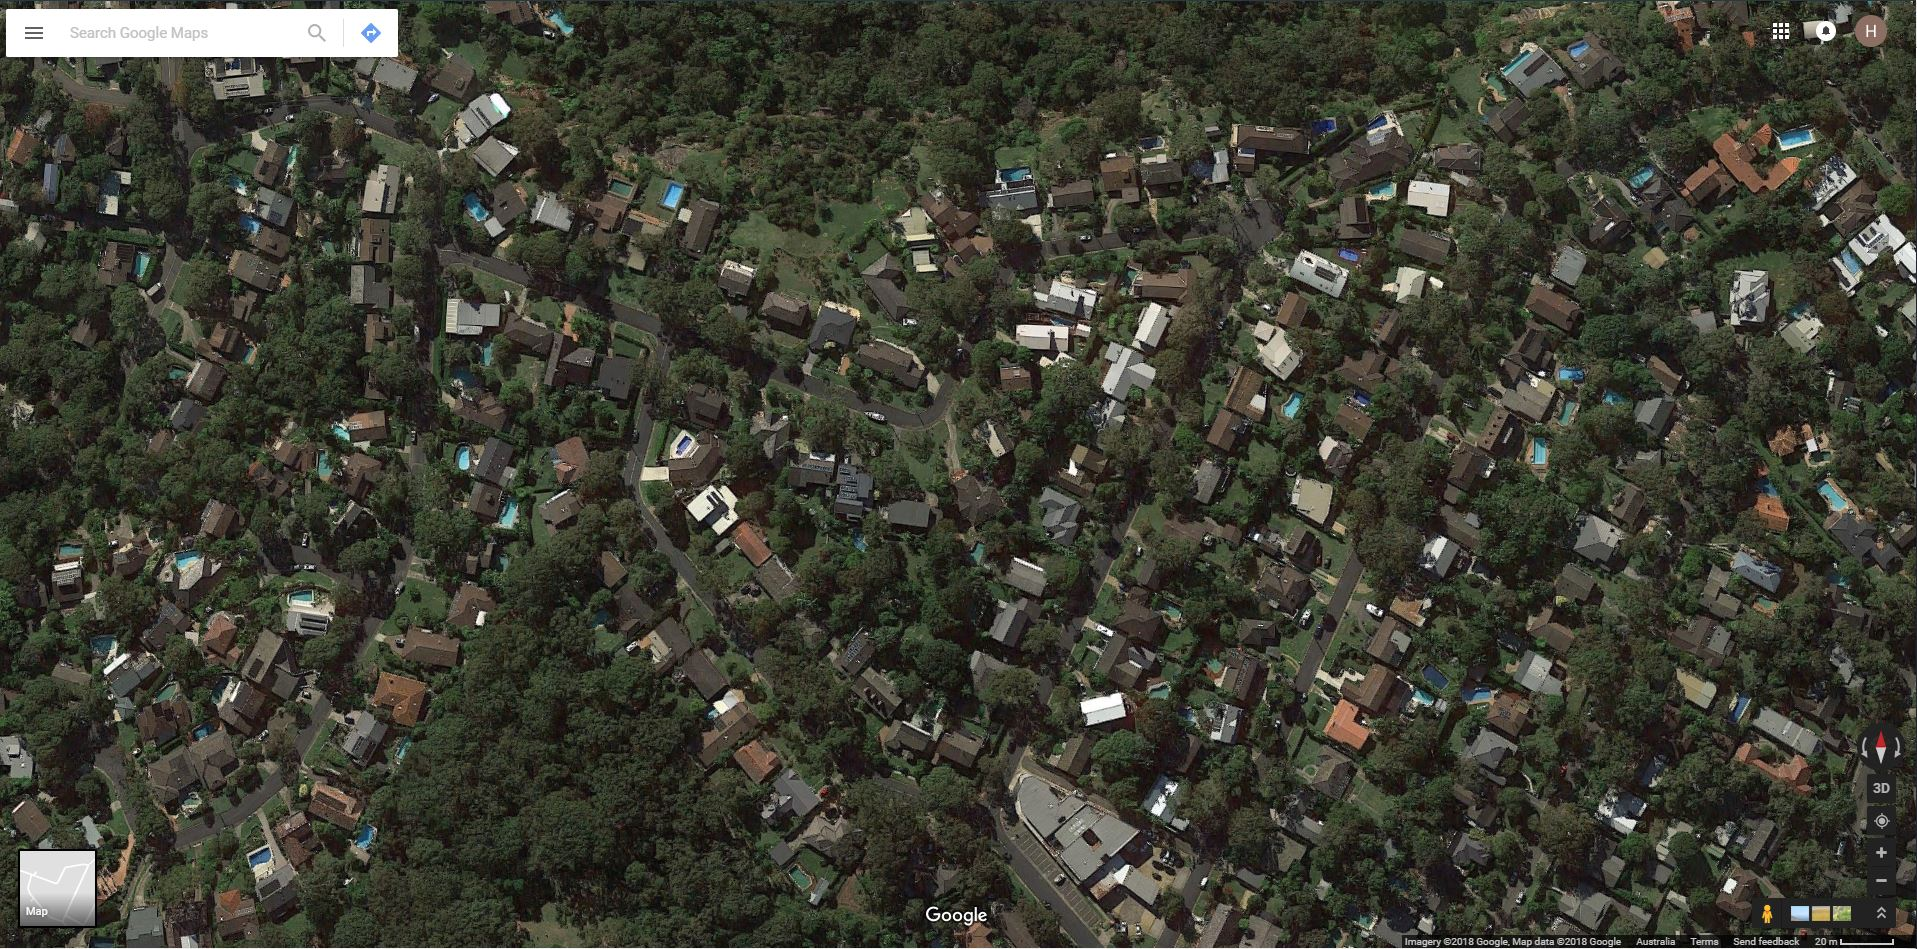pool: (1814, 482, 1853, 512), (1417, 660, 1452, 690), (1483, 71, 1514, 103), (1831, 249, 1867, 276), (782, 865, 817, 892), (1775, 124, 1816, 146), (462, 194, 489, 224), (355, 821, 380, 850), (1757, 476, 1787, 499), (1728, 691, 1750, 723), (1600, 389, 1636, 408), (1622, 170, 1657, 190), (152, 680, 183, 701), (1408, 689, 1440, 709), (661, 182, 685, 210), (1504, 51, 1533, 73), (1157, 598, 1183, 621), (1531, 435, 1551, 465), (1282, 391, 1303, 419), (500, 497, 520, 526), (247, 847, 278, 866), (57, 544, 86, 564), (455, 444, 474, 472), (1750, 592, 1778, 611), (610, 176, 635, 198), (1350, 389, 1379, 407), (1353, 907, 1378, 929), (315, 448, 334, 476), (1556, 401, 1577, 426), (1559, 368, 1591, 384), (290, 589, 319, 607), (1463, 687, 1494, 703), (1309, 117, 1337, 135), (1336, 246, 1364, 263), (677, 430, 694, 457), (1368, 179, 1395, 196), (1120, 262, 1139, 285), (134, 251, 152, 276), (850, 532, 870, 553), (171, 549, 201, 564), (553, 15, 575, 34), (1822, 570, 1851, 585), (1808, 448, 1835, 463), (1203, 654, 1226, 673), (284, 142, 300, 168), (970, 541, 985, 566), (998, 168, 1034, 179), (1570, 40, 1592, 59), (90, 637, 119, 651), (1048, 313, 1076, 327), (480, 341, 495, 364), (181, 794, 204, 808), (1148, 685, 1172, 698), (397, 737, 412, 759), (227, 176, 249, 191), (333, 423, 351, 440), (170, 364, 189, 380), (1135, 138, 1165, 148), (1368, 117, 1393, 130), (242, 218, 262, 232), (242, 342, 257, 361), (592, 611, 615, 622), (191, 725, 210, 737), (702, 708, 721, 718)
